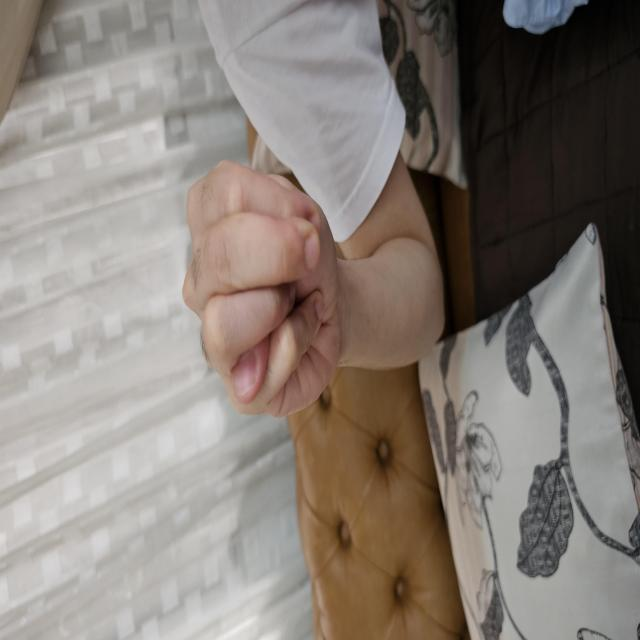M: (154, 152, 418, 450)
